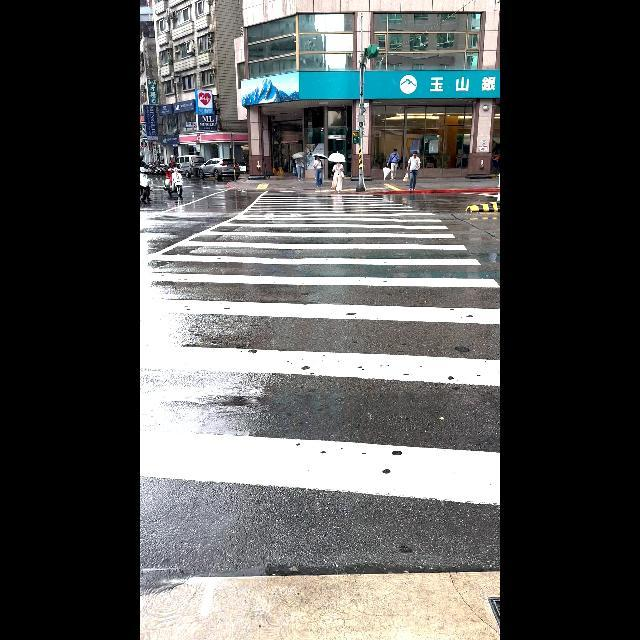sidewalk: (140, 188, 499, 506)
